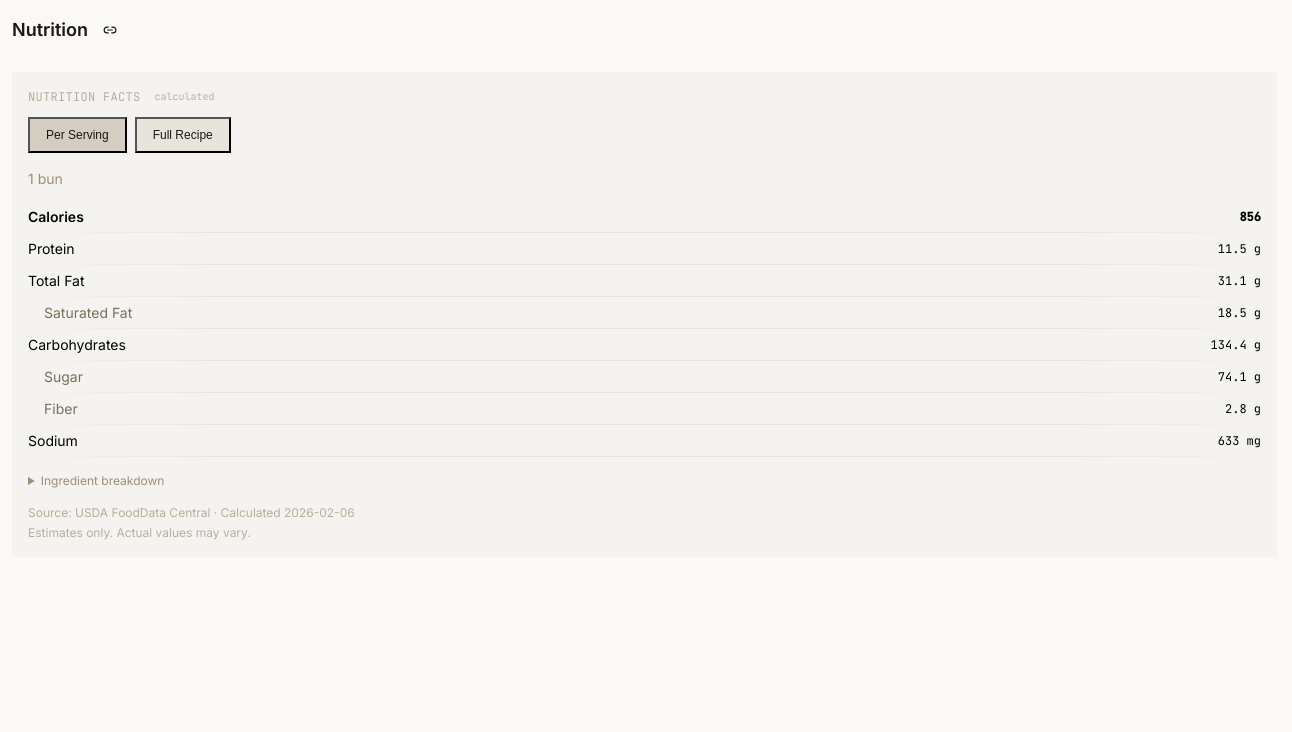
it: NutritionSection › toggles to full recipe values
Click the button "Full Recipe" at (183, 135), box [135,117,231,153]
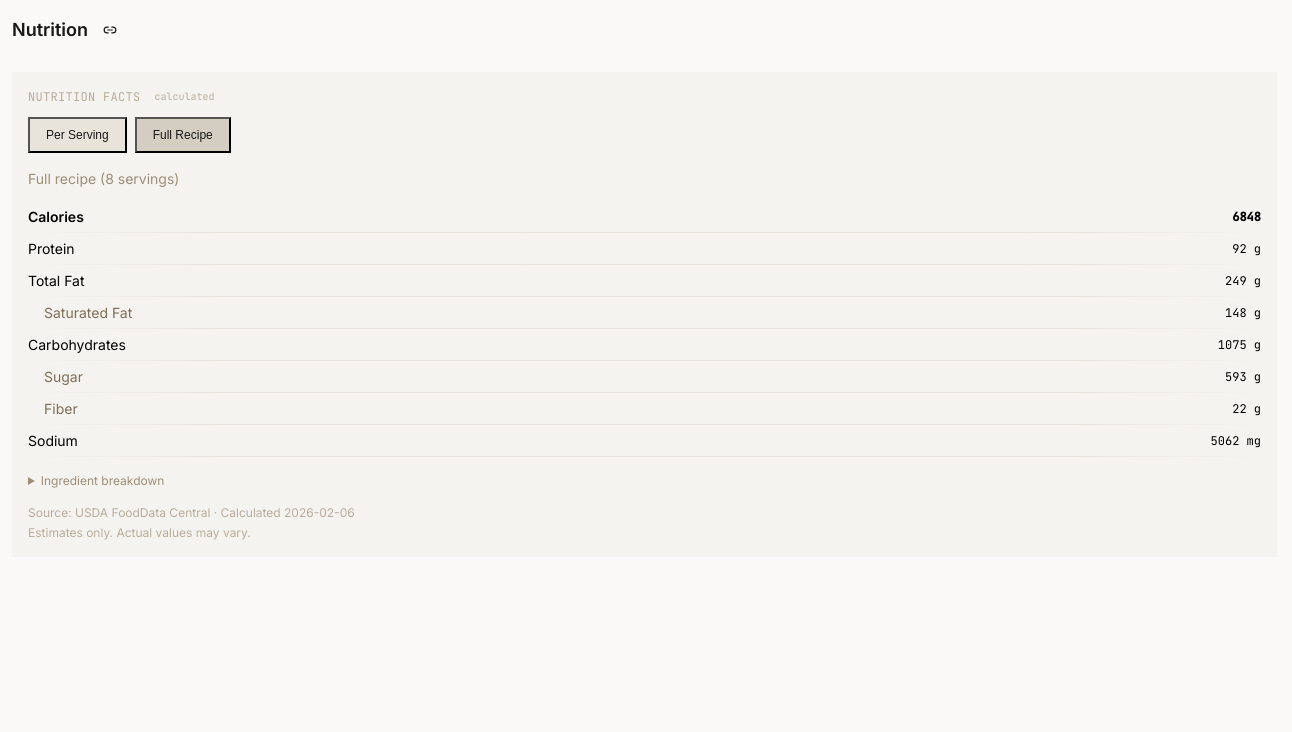
Expected: the text "Full recipe (8 servings)" is shown, [28,170,179,187]
Expected: the text "6848" is shown, [859,201,1261,233]
